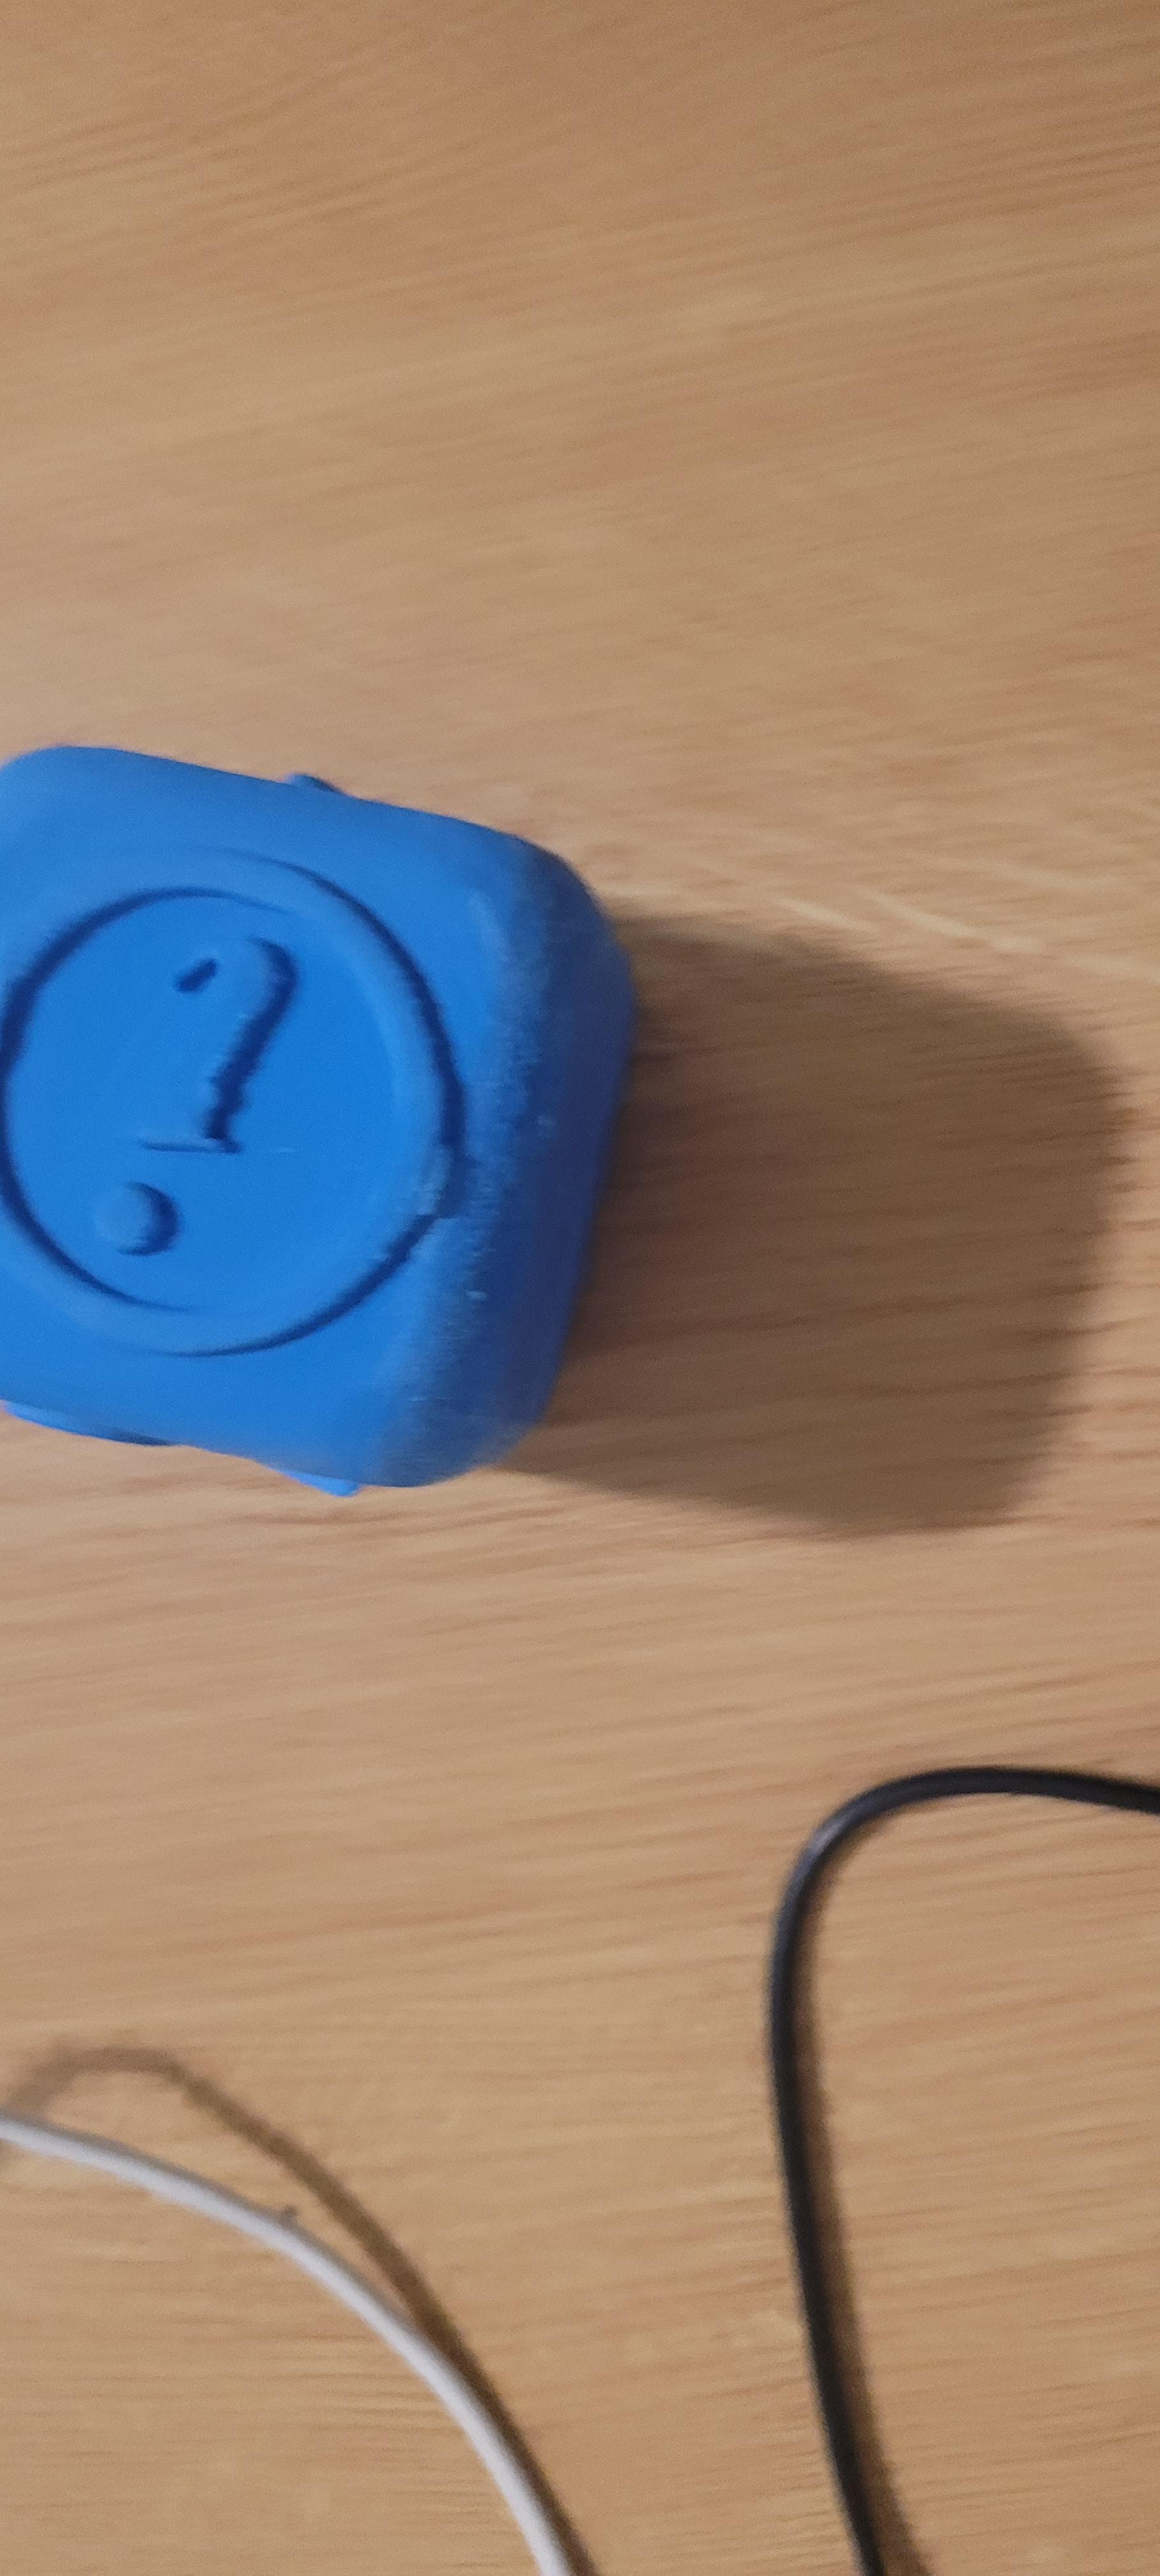Info: (0, 881, 503, 1347)
